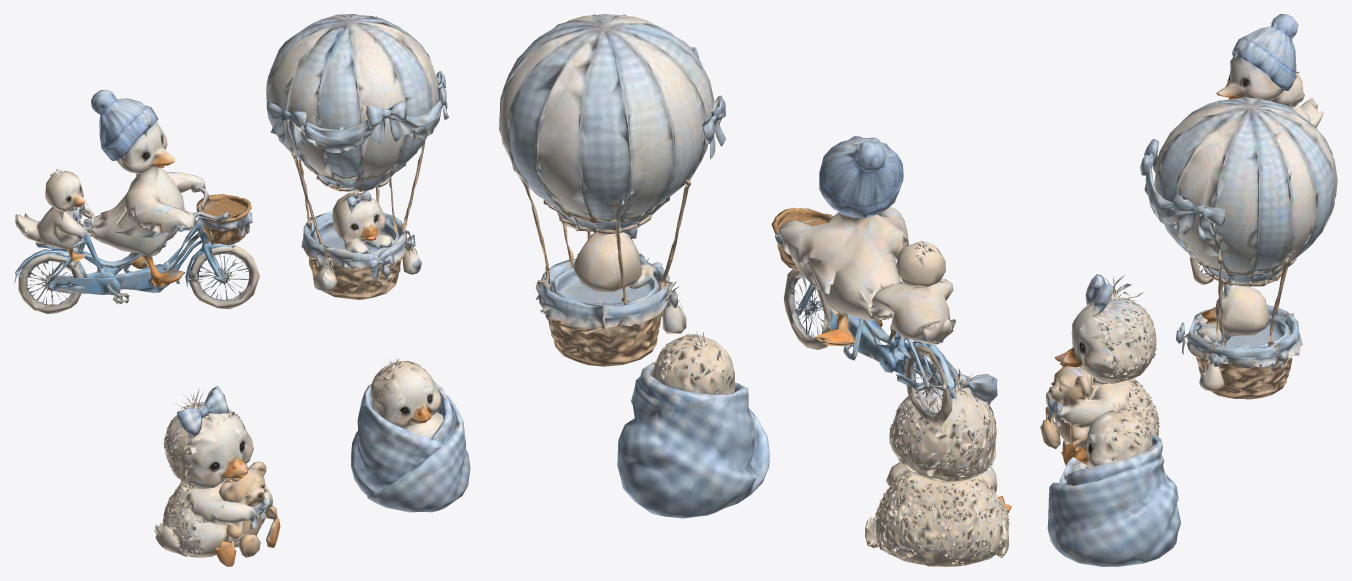
The picture shows the model from 3 angles, left to right: view 1: azimuth 30°, elevation 25°; view 2: azimuth 150°, elevation 25°; view 3: azimuth 270°, elevation 25°; orthographic projection. The views are drawn at different scales.
Size of the model in its own units: 1.84 by 1.9 by 1.15.
Materials: 1 (1 with a texture image).
